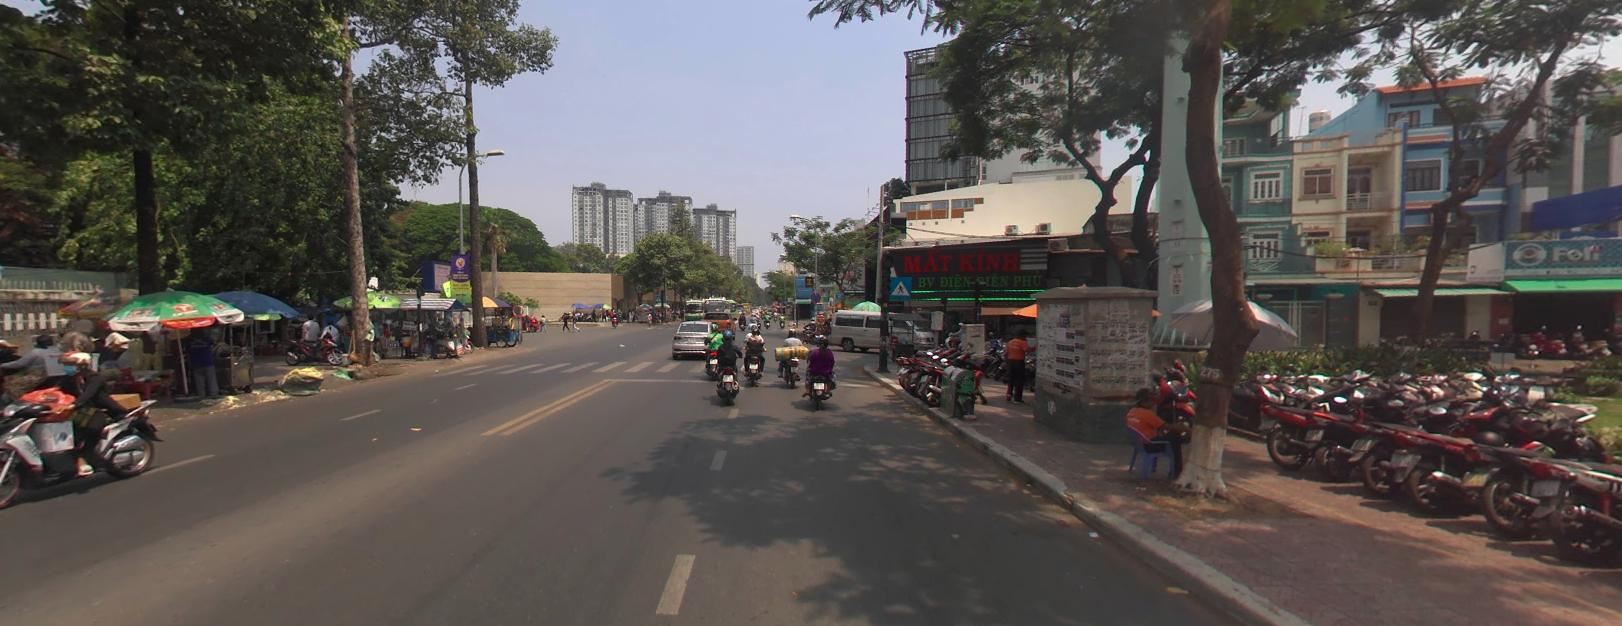Cam dung va do: (809, 291, 821, 302)
